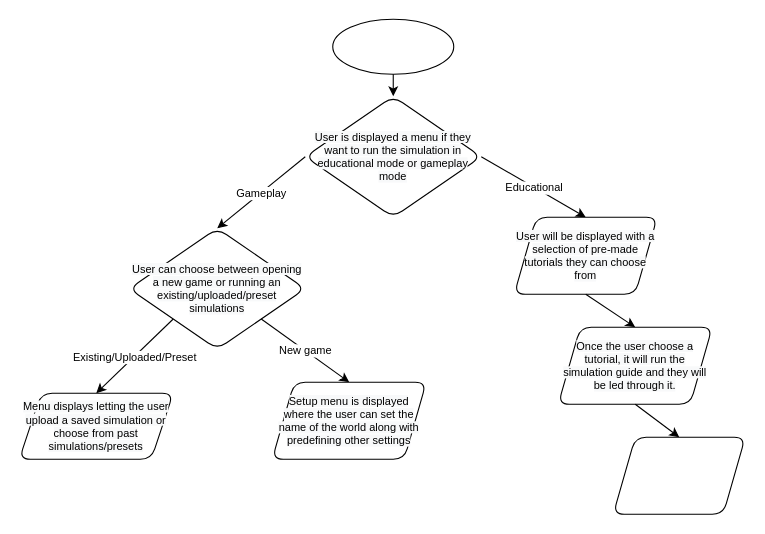
The diagram is 765 pixels wide and 534 high, and some of its shapes have lost their labels. Here are the shapes that lost their labels. From the top down, the centre of each, then its label:
At (393,46): "Program is run".
At (678,475): "They will also be asked questions throughout the tutorial".
